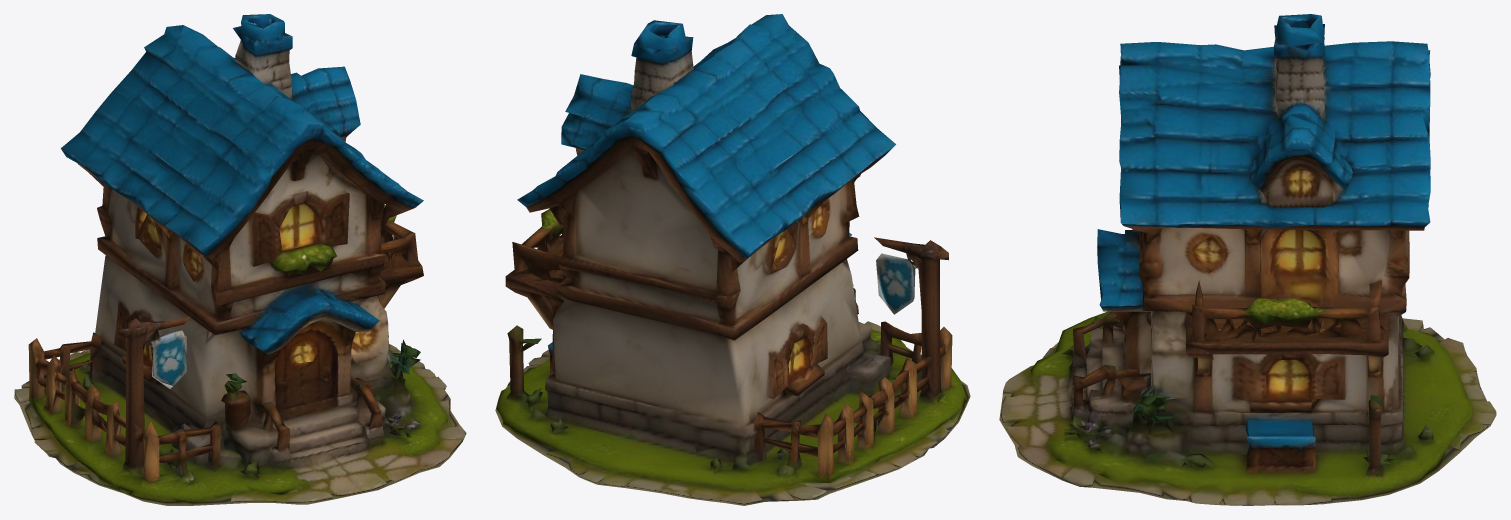
3 renders of one model, left to right at view 1: azimuth 30°, elevation 25°; view 2: azimuth 150°, elevation 25°; view 3: azimuth 270°, elevation 25°, orthographic. The views are drawn at different scales.
Visible parts, largest first — view 1: tripo_node_867a4a72-2051-433b-9704-b0613f35d0ac; view 2: tripo_node_867a4a72-2051-433b-9704-b0613f35d0ac; view 3: tripo_node_867a4a72-2051-433b-9704-b0613f35d0ac.
Boxes of the visible parts, x1,y1,x2,y2 form: tripo_node_867a4a72-2051-433b-9704-b0613f35d0ac: (14,14,466,505); tripo_node_867a4a72-2051-433b-9704-b0613f35d0ac: (495,14,970,505); tripo_node_867a4a72-2051-433b-9704-b0613f35d0ac: (999,14,1496,505).
Size of the model in its own units: 0.9684 by 0.9075 by 1.
1 material, 1 textured.
